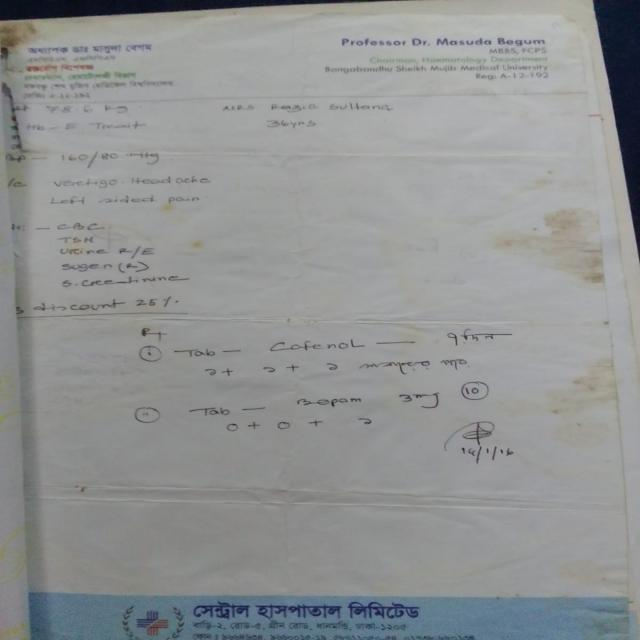medicine: (258, 332, 366, 358), (292, 392, 374, 412)
